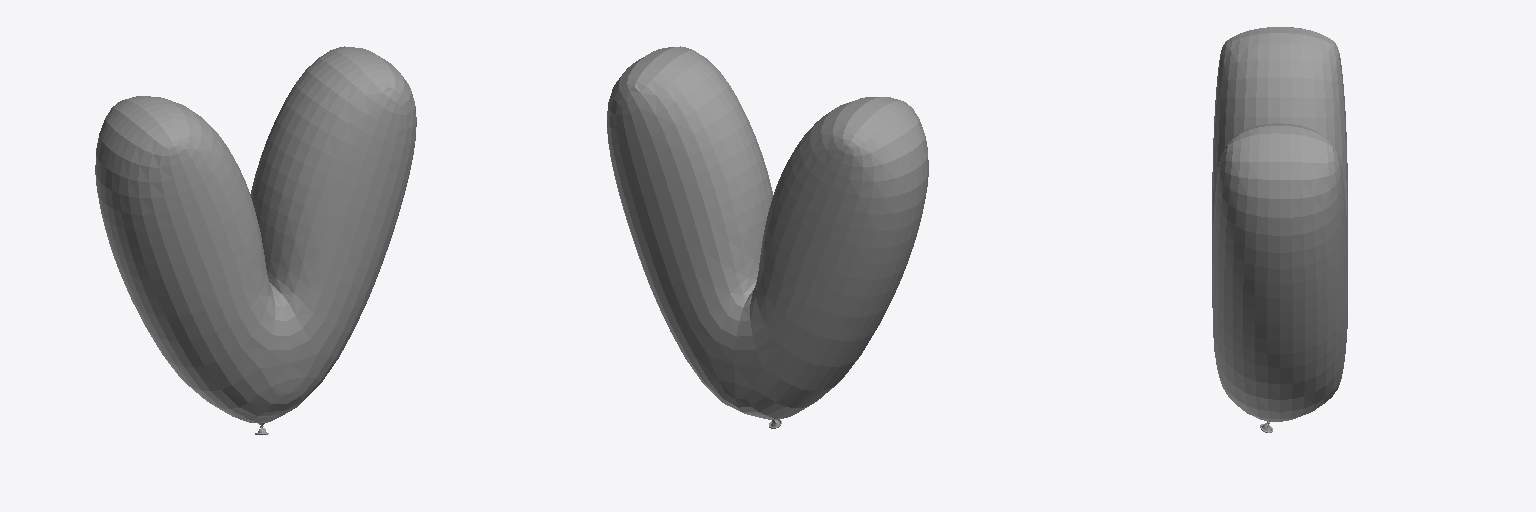
The picture shows the model from 3 angles: view 1: azimuth 30°, elevation 25°; view 2: azimuth 150°, elevation 25°; view 3: azimuth 270°, elevation 25°; orthographic projection.
Visible parts, largest first — view 1: Balloon_Alphabet_Subdivision_V_Alphabet_V; view 2: Balloon_Alphabet_Subdivision_V_Alphabet_V; view 3: Balloon_Alphabet_Subdivision_V_Alphabet_V.
Part boxes in pixels (left/top/right/bottom): Balloon_Alphabet_Subdivision_V_Alphabet_V: left=95, top=46, right=416, bottom=434; Balloon_Alphabet_Subdivision_V_Alphabet_V: left=607, top=46, right=928, bottom=428; Balloon_Alphabet_Subdivision_V_Alphabet_V: left=1212, top=27, right=1347, bottom=432.
Bounding box in the file's own units: 45.56 × 50.82 × 17.9.